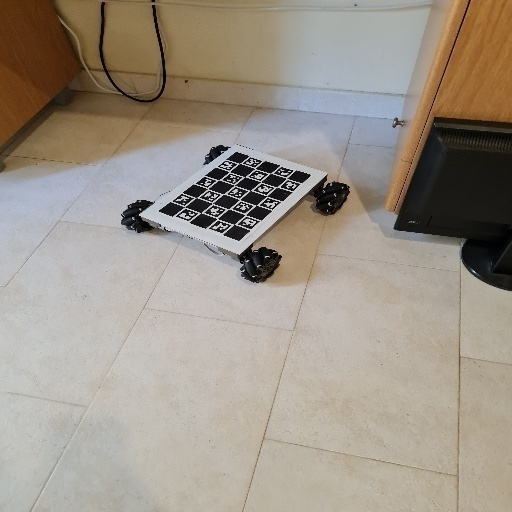Omniwheel: (119, 144, 350, 285)
